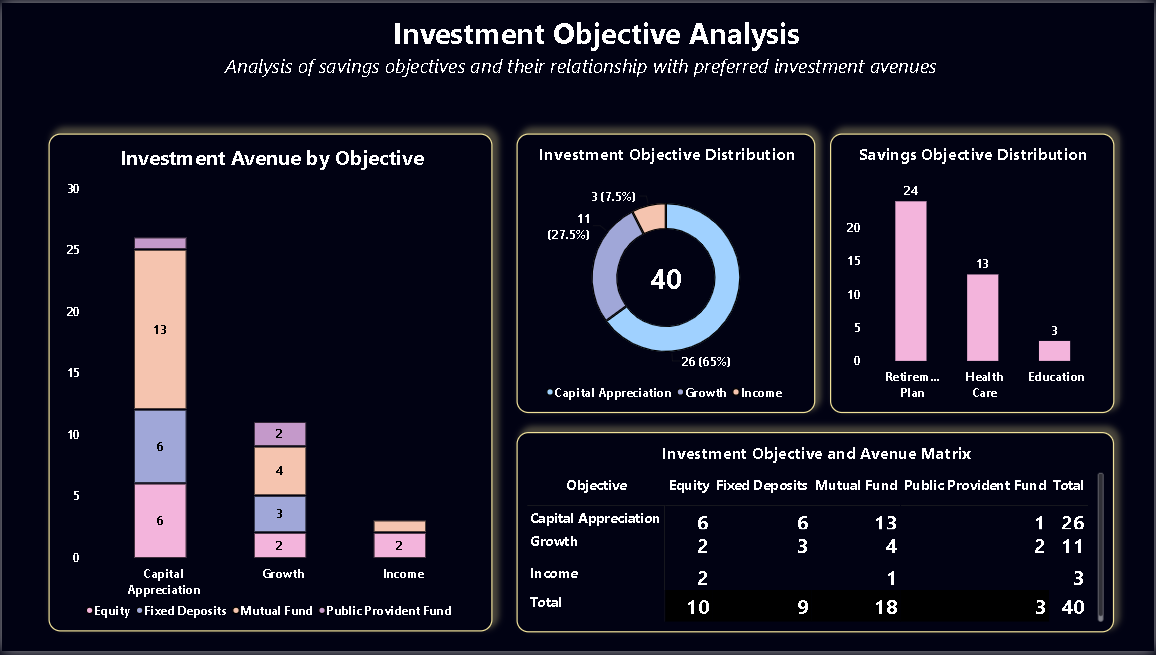

The page's visual inventory and layout, read from the dashboard file:
{"tool":"powerbi","page":{"name":"Task-3.Objective Analysis","canvas":[1920,1080],"ordinal":2},"visuals":[{"type":"textbox","box":[128,18,1726,66],"z":0},{"type":"columnChart","title":"Investment Avenue by Objective","fields":{"Category":["Investments.Objective"],"Series":["Investments.Avenue"],"Y":["CountNonNull(Investments.Avenue)"]},"box":[78,218,740,830],"z":1000},{"type":"donutChart","title":"Investment Objective Distribution","fields":{"Category":["Investments.Objective"],"Y":["CountNonNull(Investments.Objective)"]},"box":[858,218,498,466],"z":2000},{"type":"pivotTable","title":"Investment Objective and Avenue Matrix","fields":{"Columns":["Investments.Avenue"],"Rows":["Investments.Objective"],"Values":["CountNonNull(Investments.Avenue)"]},"box":[858,714,996,334],"z":3000},{"type":"clusteredColumnChart","title":"Savings Objective Distribution","fields":{"Category":["Investments.What are your savings objectives?"],"Y":["CountNonNull(Investments.What are your savings objectives?)"]},"box":[1380,218,474,466],"z":4000},{"type":"textbox","box":[77.5,82.5,1775,55],"z":5000}]}

Visuals, with their boxes in screenshot pixels (x1, y1, x2, y2), scaled from the page's 1920x1080 canvas onto the 1156x655 screenshot:
textbox: rect(77, 11, 1116, 51)
"Investment Avenue by Objective" columnChart: rect(47, 132, 493, 636)
"Investment Objective Distribution" donutChart: rect(517, 132, 816, 415)
"Investment Objective and Avenue Matrix" pivotTable: rect(517, 433, 1116, 636)
"Savings Objective Distribution" clusteredColumnChart: rect(831, 132, 1116, 415)
textbox: rect(47, 50, 1115, 83)
